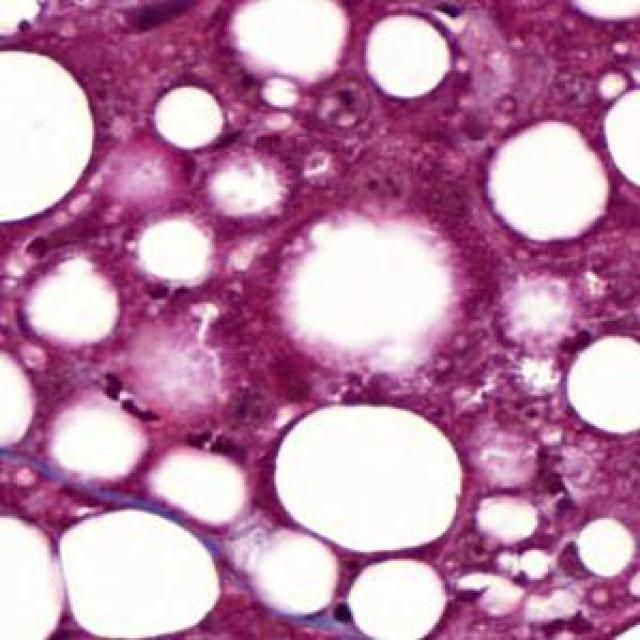steatosis: (276, 402, 460, 554), (0, 49, 96, 226), (364, 17, 452, 103), (569, 334, 640, 434), (152, 81, 229, 152)
